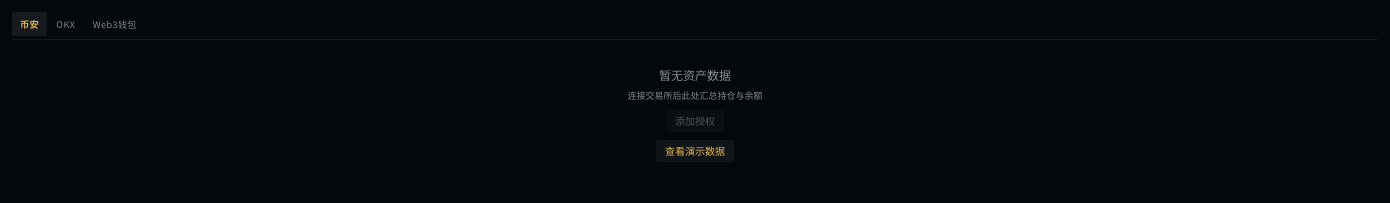
Test: AssetOverview(资产聚合壳) › 演示模式下返回 → 回到空态
Click the button "查看演示数据" at (695,151), box [656,140,734,162]
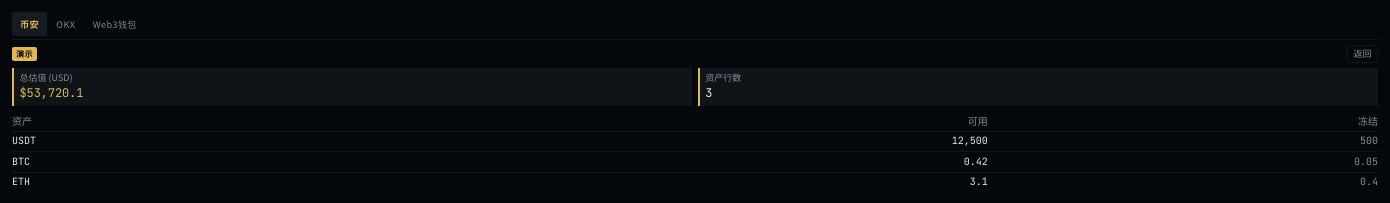
Click the button "返回" at (1362,54), box [1347,45,1378,63]
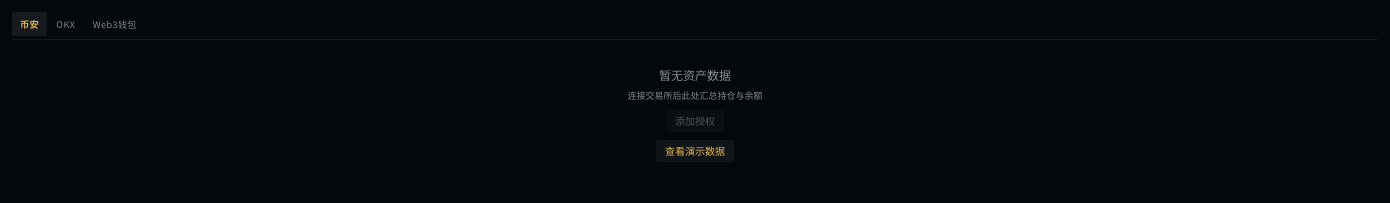
Now the text "暂无资产数据" is shown, box [659,67,731,84]
